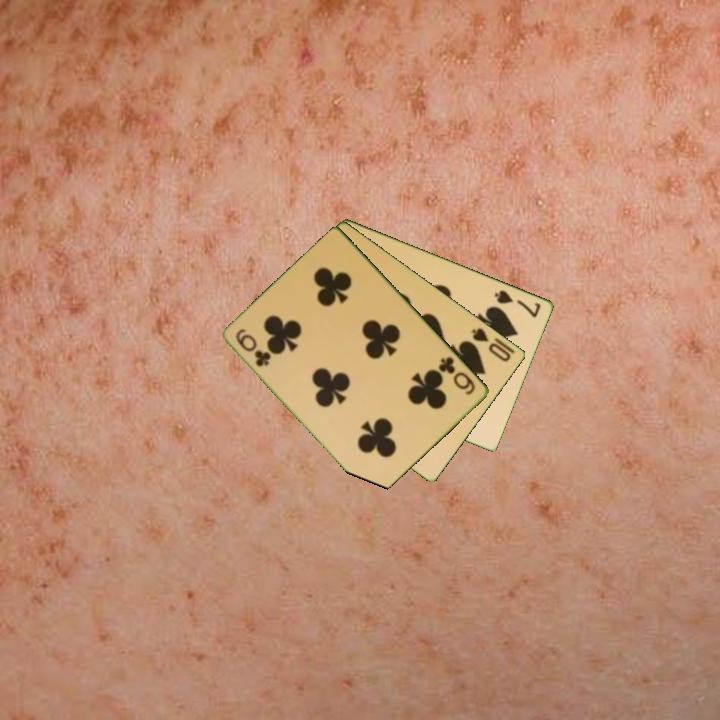10s: (469, 324, 514, 365)
6c: (435, 353, 479, 398), (232, 325, 274, 370)
7s: (491, 286, 544, 320)
